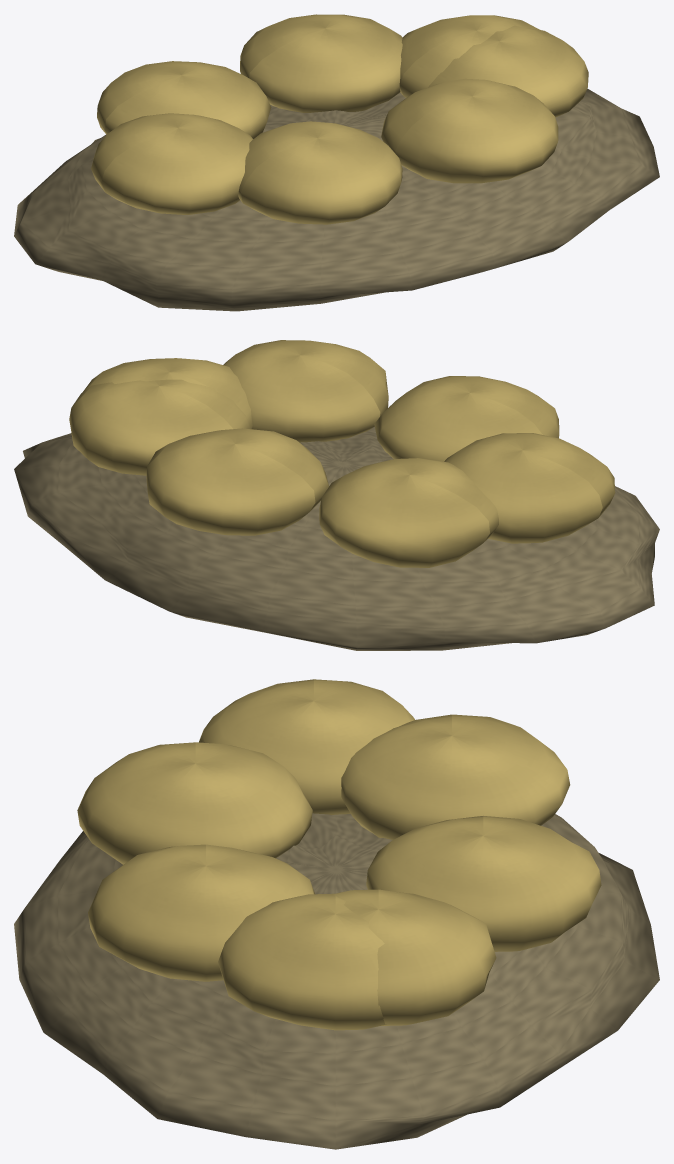
The model's file is swamp-and-mangrove-slime-mound-1afa542f.glb.
The picture shows the model from 3 angles, top to bottom: view 1: azimuth 30°, elevation 25°; view 2: azimuth 150°, elevation 25°; view 3: azimuth 270°, elevation 25°; orthographic projection. The views are drawn at different scales.
Parts seen in each view (by area): view 1: slime-mound; view 2: slime-mound; view 3: slime-mound.
Boxes of the visible parts, x1,y1,x2,y2 form: slime-mound: (14,14,659,311); slime-mound: (14,340,659,650); slime-mound: (14,679,659,1149).
Size of the model in its own units: 1.02 by 0.2002 by 0.7136.
2 materials, 2 textured.
